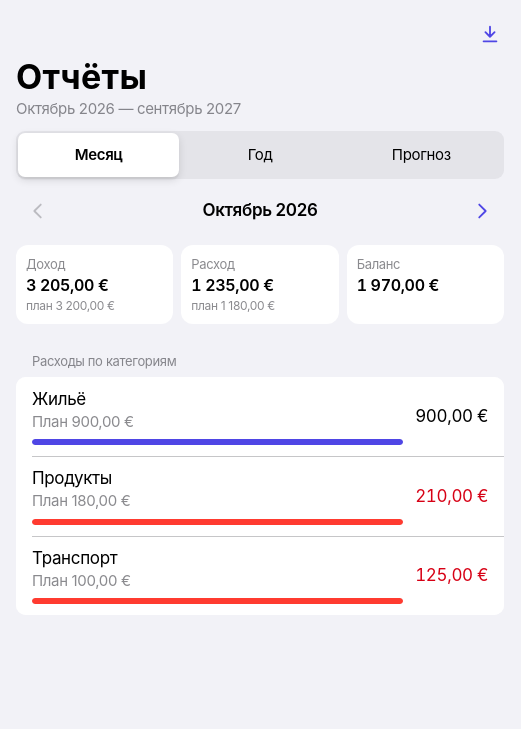
it: Отчёты — год › average expense, the most expensive month and what was accumulated
Click the radio button labelled "Год" at (260, 154), box [179,132,341,176]
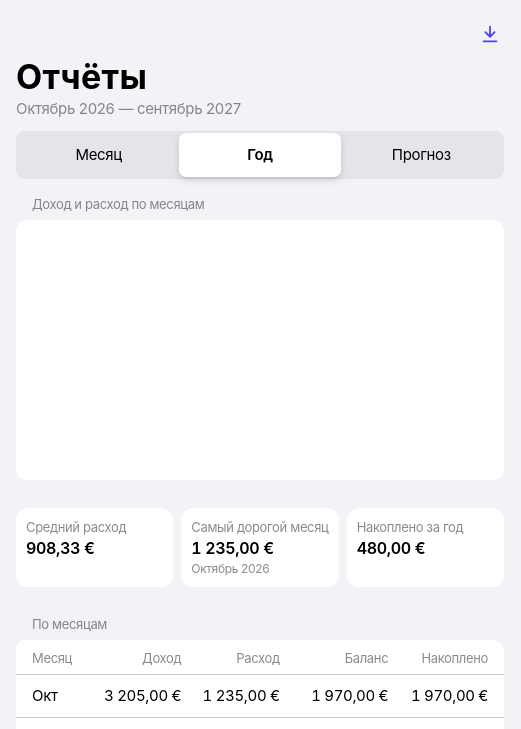
Expected: the text "Самый дорогой месяц" shows "Октябрь 2026", [191,560,269,576]
